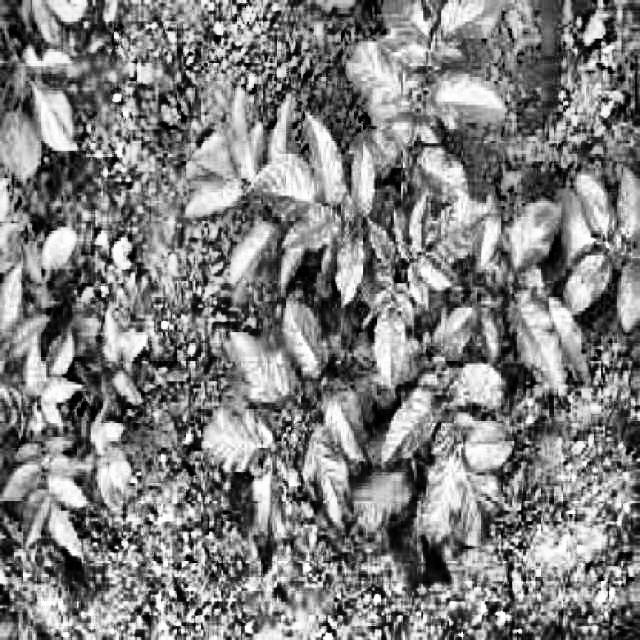plants: (175, 0, 638, 591), (0, 198, 148, 564), (0, 0, 115, 186)
